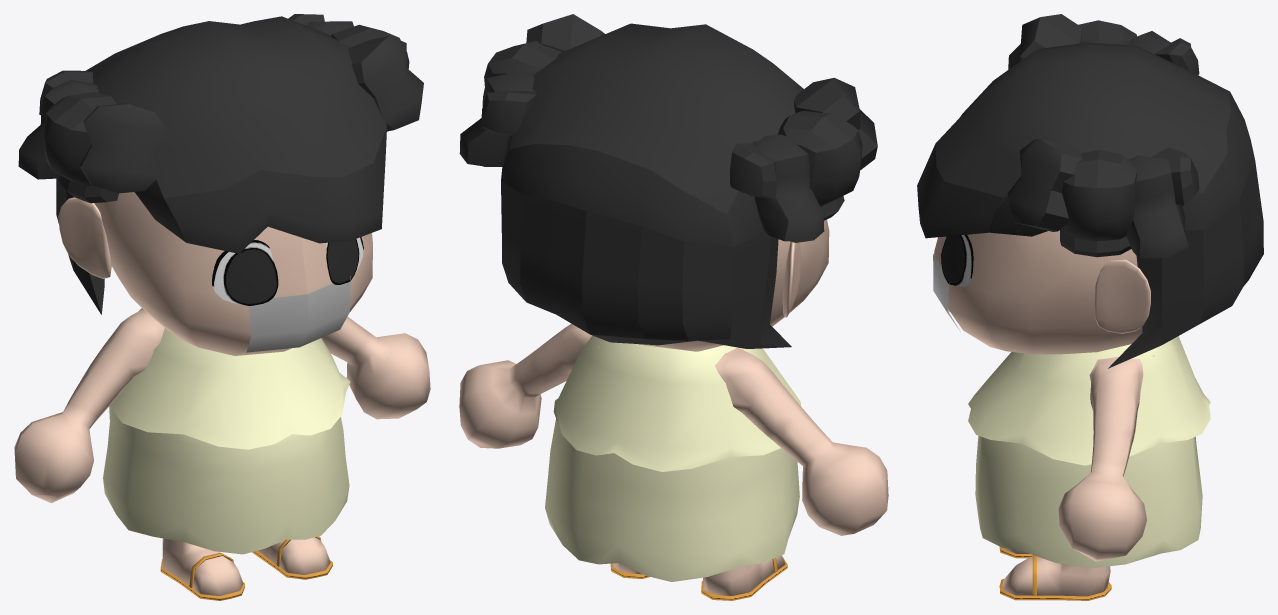
Rendered from Girl.fbx.
3 renders of one model, left to right at view 1: azimuth 30°, elevation 25°; view 2: azimuth 150°, elevation 25°; view 3: azimuth 270°, elevation 25°, orthographic. The views are drawn at different scales.
Parts seen in each view (by area): view 1: Hair_v2_9 (×2), shirt_n_pants1, polySurface4, mouth, eyes; view 2: Hair_v2_9 (×2), shirt_n_pants1, polySurface4; view 3: Hair_v2_9 (×2), shirt_n_pants1, polySurface4, eyes, pCube24, mouth.
Part boxes in pixels (left/top/right/bottom): Hair_v2_9 (×2): left=18, top=14, right=423, bottom=314; shirt_n_pants1: left=103, top=308, right=350, bottom=554; polySurface4: left=14, top=192, right=430, bottom=595; mouth: left=246, top=276, right=350, bottom=352; eyes: left=212, top=237, right=363, bottom=305; Hair_v2_9 (×2): left=459, top=14, right=877, bottom=348; shirt_n_pants1: left=545, top=335, right=800, bottom=581; polySurface4: left=459, top=219, right=888, bottom=595; Hair_v2_9 (×2): left=917, top=14, right=1263, bottom=368; shirt_n_pants1: left=968, top=336, right=1210, bottom=568; polySurface4: left=934, top=230, right=1154, bottom=596; eyes: left=941, top=234, right=973, bottom=286; pCube24: left=999, top=579, right=1111, bottom=600; mouth: left=933, top=253, right=960, bottom=331.
Bounding box in the file's own units: 5.07 × 6.09 × 3.75.
